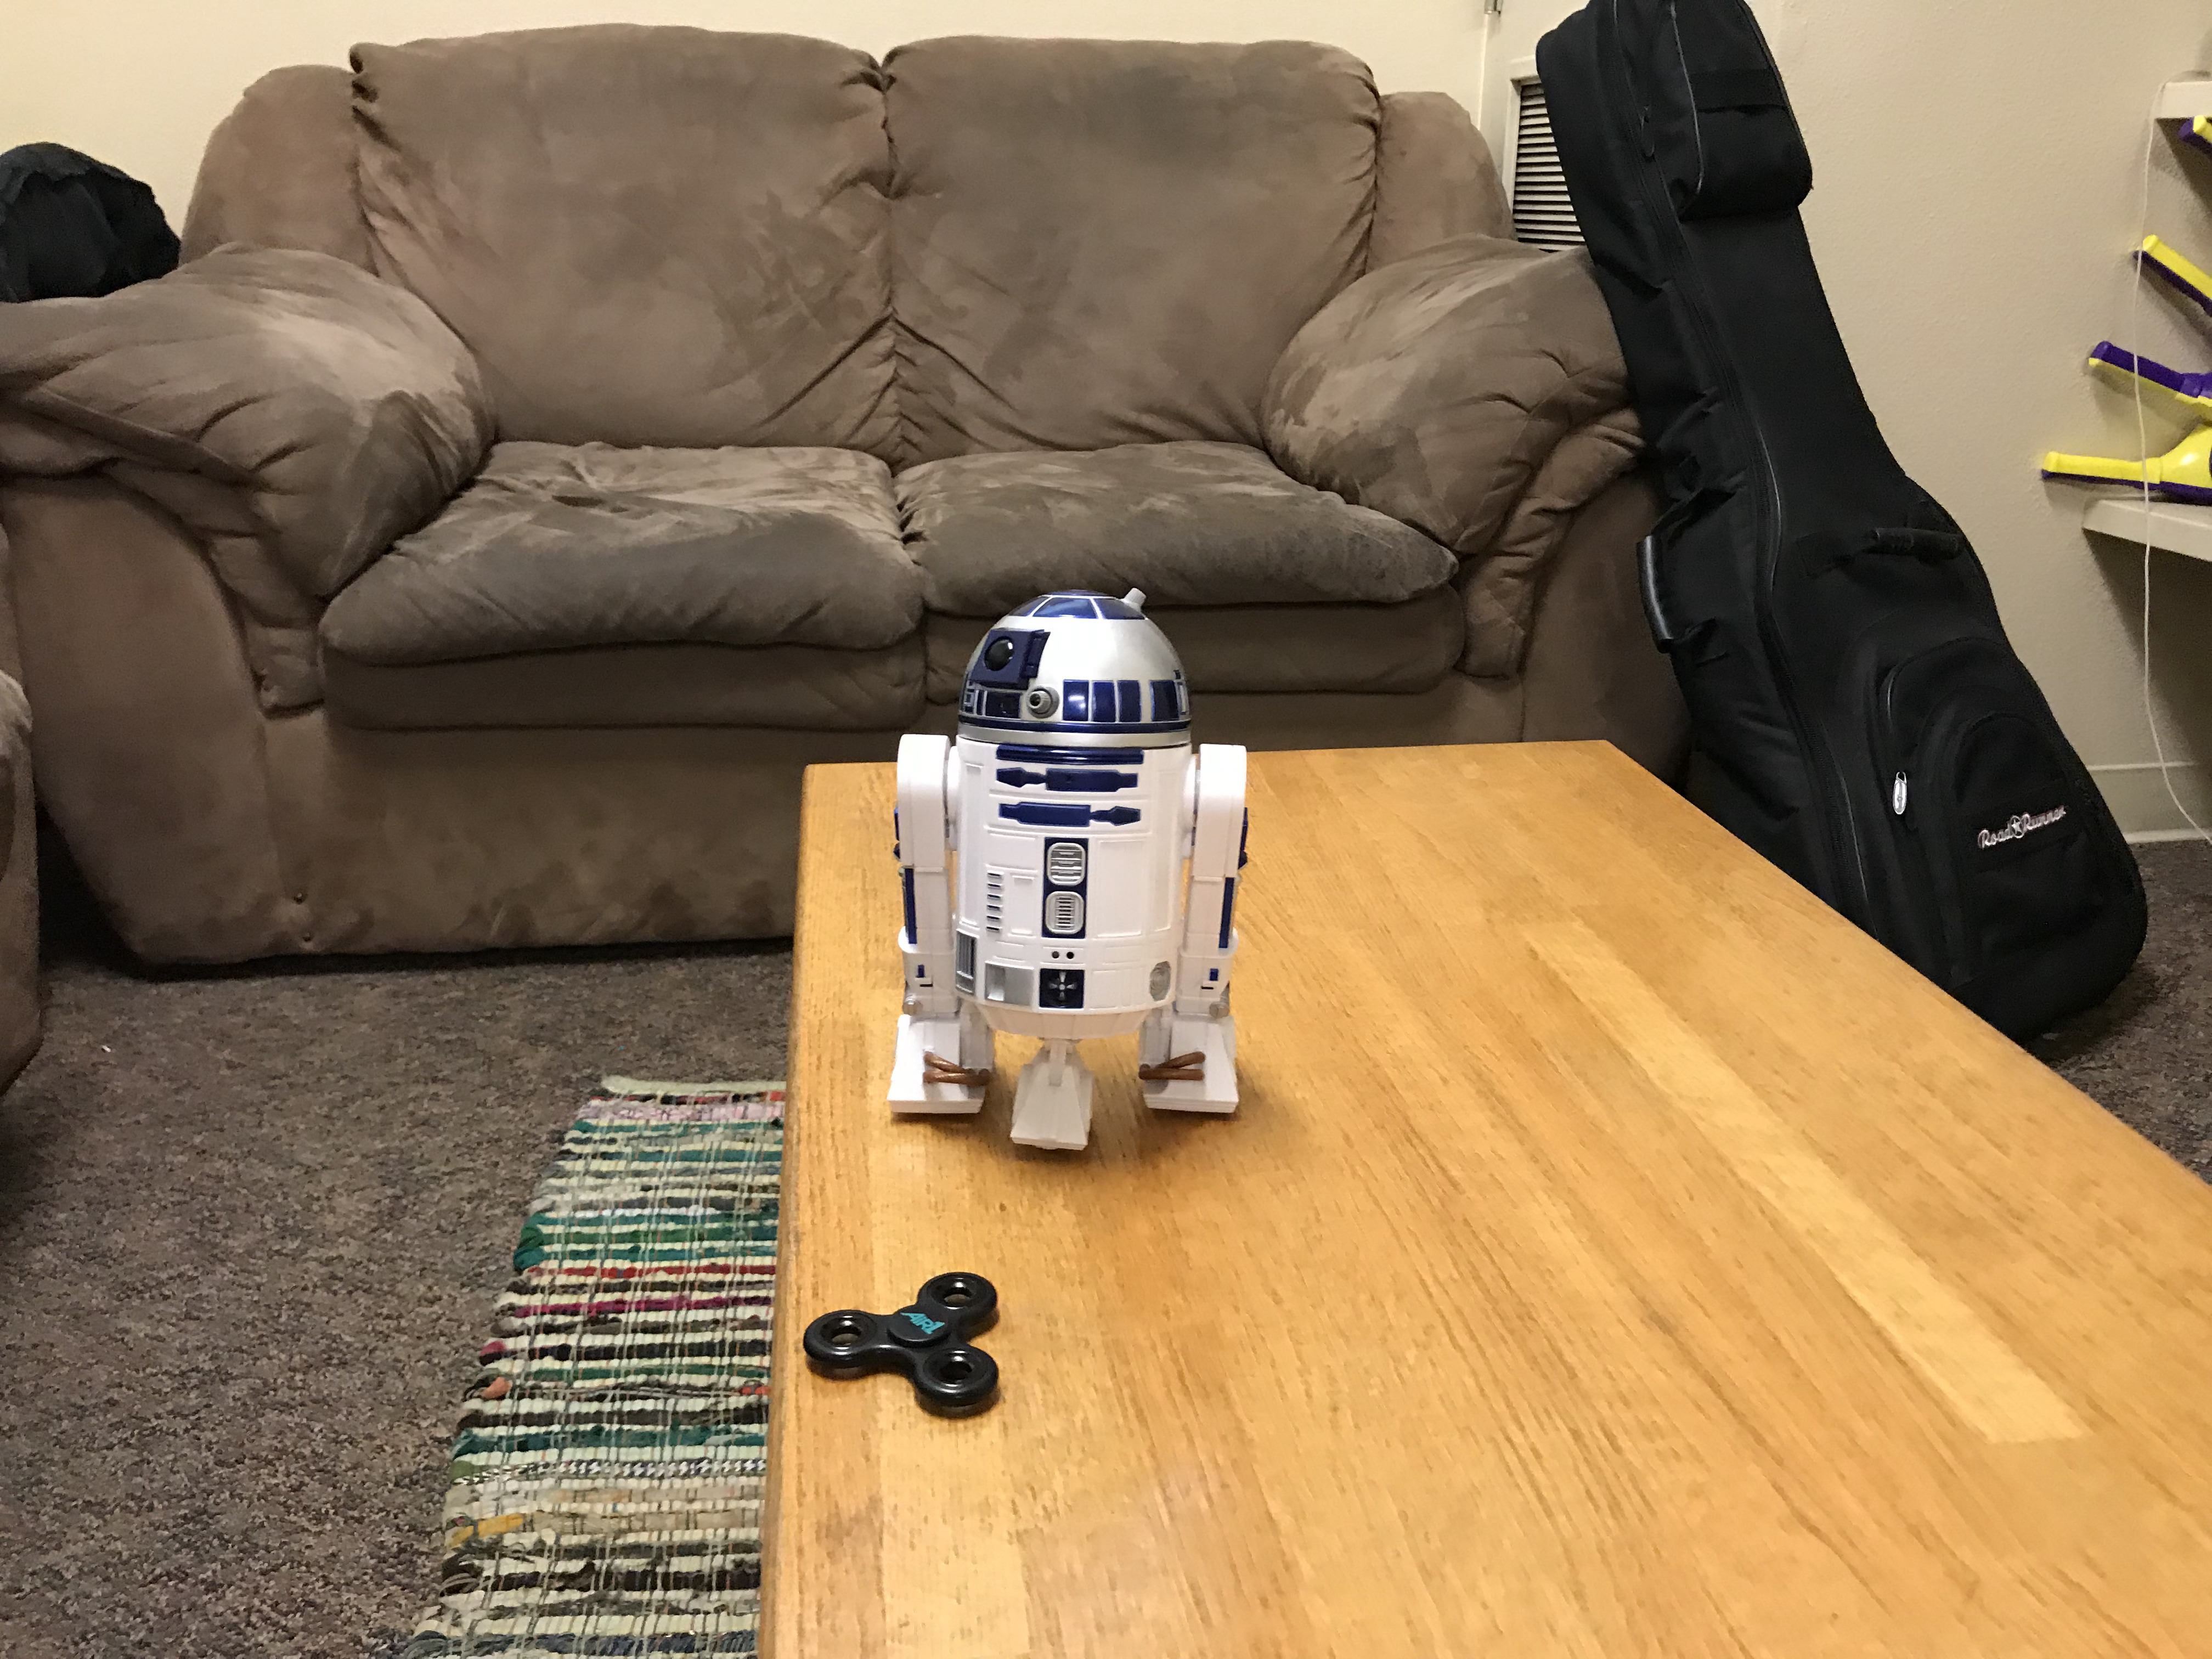r2d2: (888, 587, 1251, 1152)
